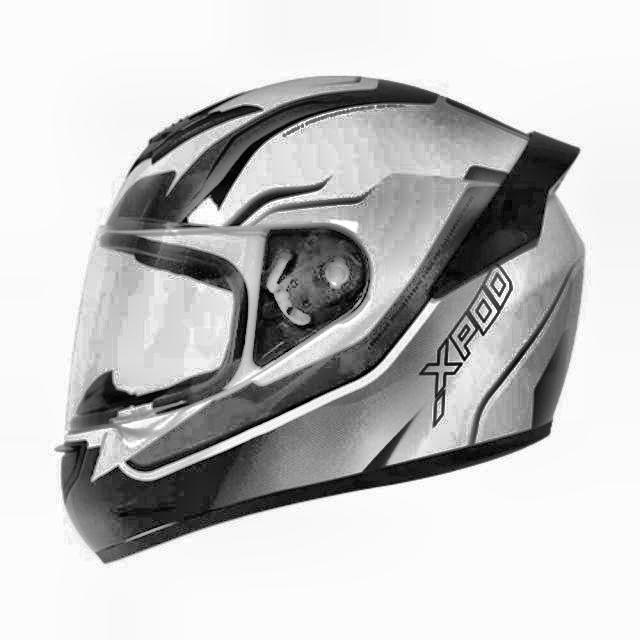Helmet: (50, 57, 598, 570)
